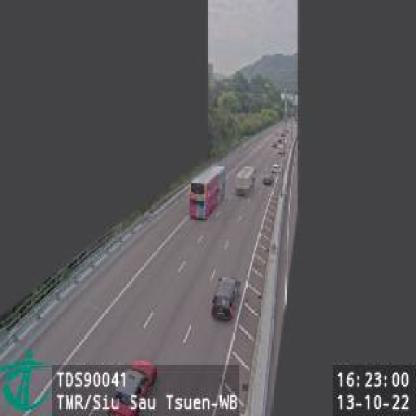Bus: (188, 164, 226, 221)
Car: (212, 276, 240, 325), (236, 164, 258, 198), (262, 173, 273, 185), (272, 162, 282, 172)
